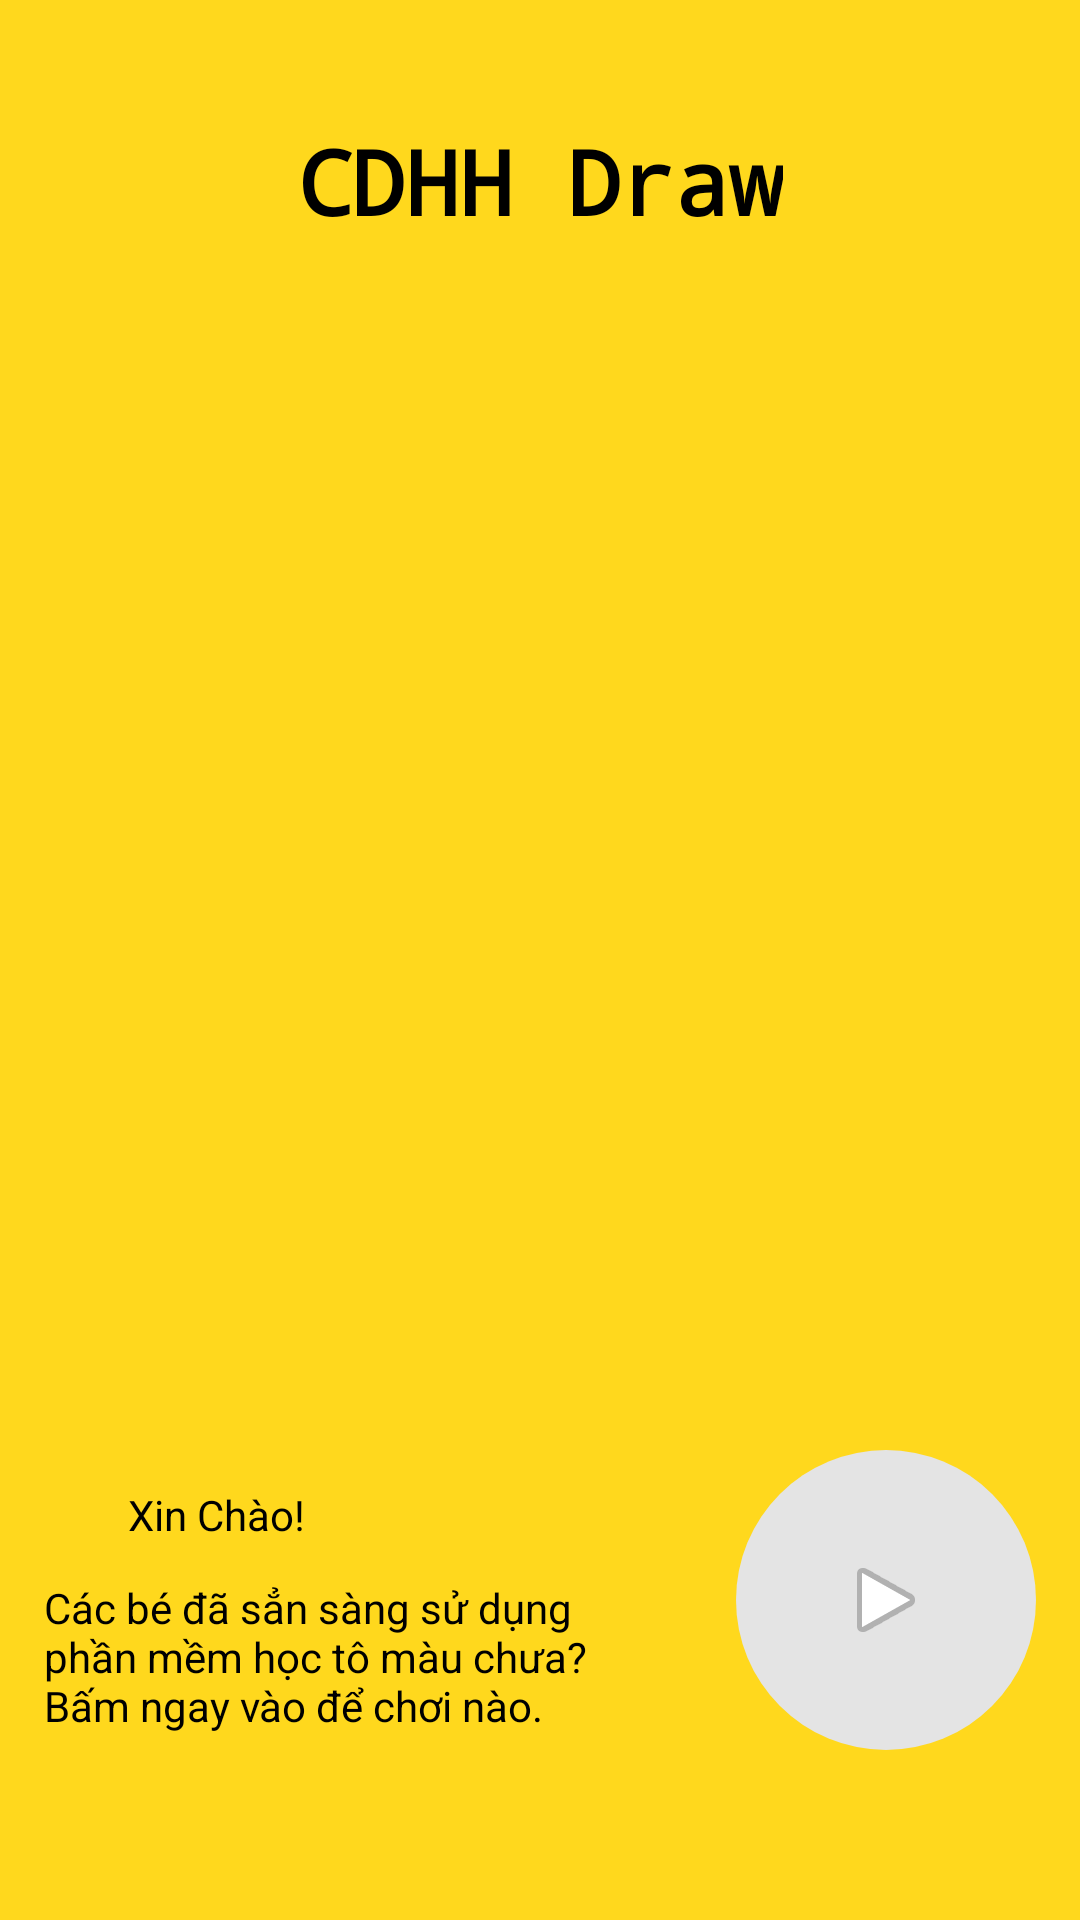

Screen size 1080w x 1920h. Icon name, then its center in pixels as (x=x, y=y):
play: (x=886, y=1600)
